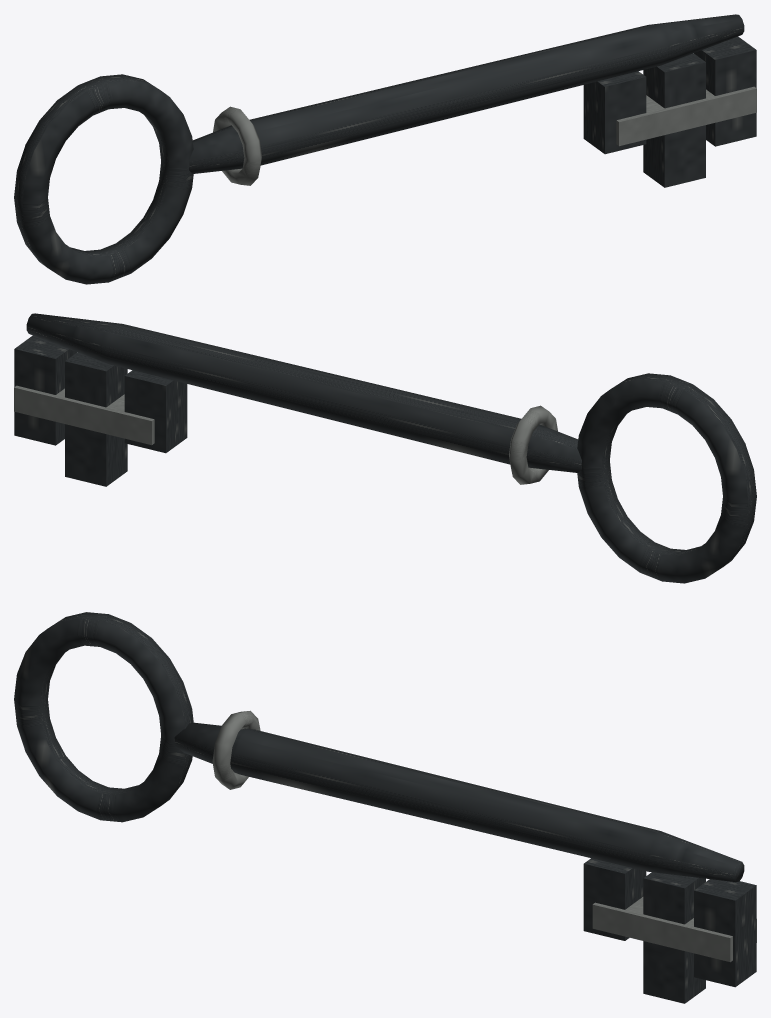
The model's file is iron-key.glb.
The picture shows the model from 3 angles, top to bottom: view 1: azimuth 30°, elevation 25°; view 2: azimuth 150°, elevation 25°; view 3: azimuth 330°, elevation 25°; orthographic projection.
Parts seen in each view (by area): view 1: iron_key; view 2: iron_key; view 3: iron_key.
Part boxes in pixels (x1,y1,x2,y2): iron_key: [14, 14, 756, 284]; iron_key: [14, 313, 756, 583]; iron_key: [14, 612, 756, 1003].
Bounding box in the file's own units: 0.1583 × 0.0488 × 0.0154.
Materials: 1 (1 with a texture image).
